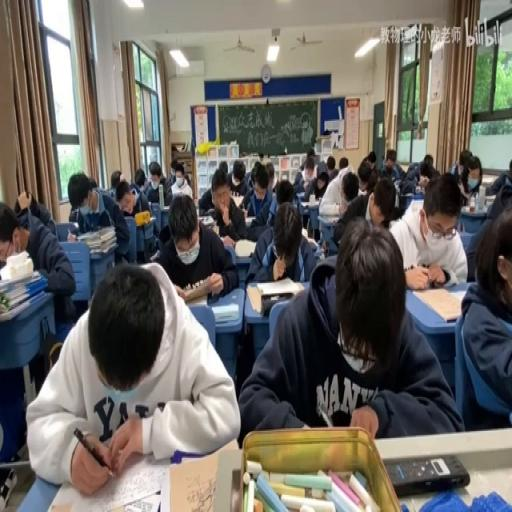calculator: (165, 443, 236, 512), (413, 286, 464, 321), (254, 274, 302, 296), (432, 266, 458, 287), (244, 283, 262, 313), (212, 302, 238, 322), (234, 238, 256, 256), (318, 200, 340, 214), (230, 193, 244, 209), (300, 225, 314, 240), (410, 199, 422, 216), (313, 243, 325, 260), (461, 205, 484, 213), (300, 196, 318, 206), (483, 195, 496, 206), (200, 214, 214, 224), (238, 206, 248, 220), (243, 215, 255, 226), (149, 247, 159, 259), (296, 190, 306, 198), (402, 192, 415, 198), (146, 216, 155, 223), (161, 205, 170, 210)
paper: (27, 258, 240, 494), (240, 219, 457, 441), (460, 204, 510, 430), (0, 196, 77, 327), (388, 170, 468, 288), (156, 192, 238, 300), (67, 172, 131, 266), (331, 169, 376, 246), (198, 162, 230, 215), (117, 176, 151, 219), (402, 154, 435, 196), (143, 158, 171, 205), (291, 150, 317, 200), (483, 155, 512, 198), (226, 158, 248, 196), (381, 146, 405, 180), (462, 160, 482, 200), (168, 155, 190, 186), (274, 178, 294, 206), (264, 159, 278, 192), (364, 170, 378, 194), (316, 159, 328, 181), (249, 162, 260, 184), (134, 166, 146, 186), (110, 168, 121, 189), (459, 148, 472, 165), (325, 154, 335, 172), (87, 174, 98, 190), (366, 151, 376, 168), (450, 161, 460, 176), (338, 155, 347, 169), (69, 206, 78, 220), (219, 161, 227, 175), (423, 154, 433, 165), (258, 152, 264, 161), (509, 161, 512, 176)
person: (386, 454, 470, 496), (260, 292, 294, 314), (230, 466, 242, 510)
